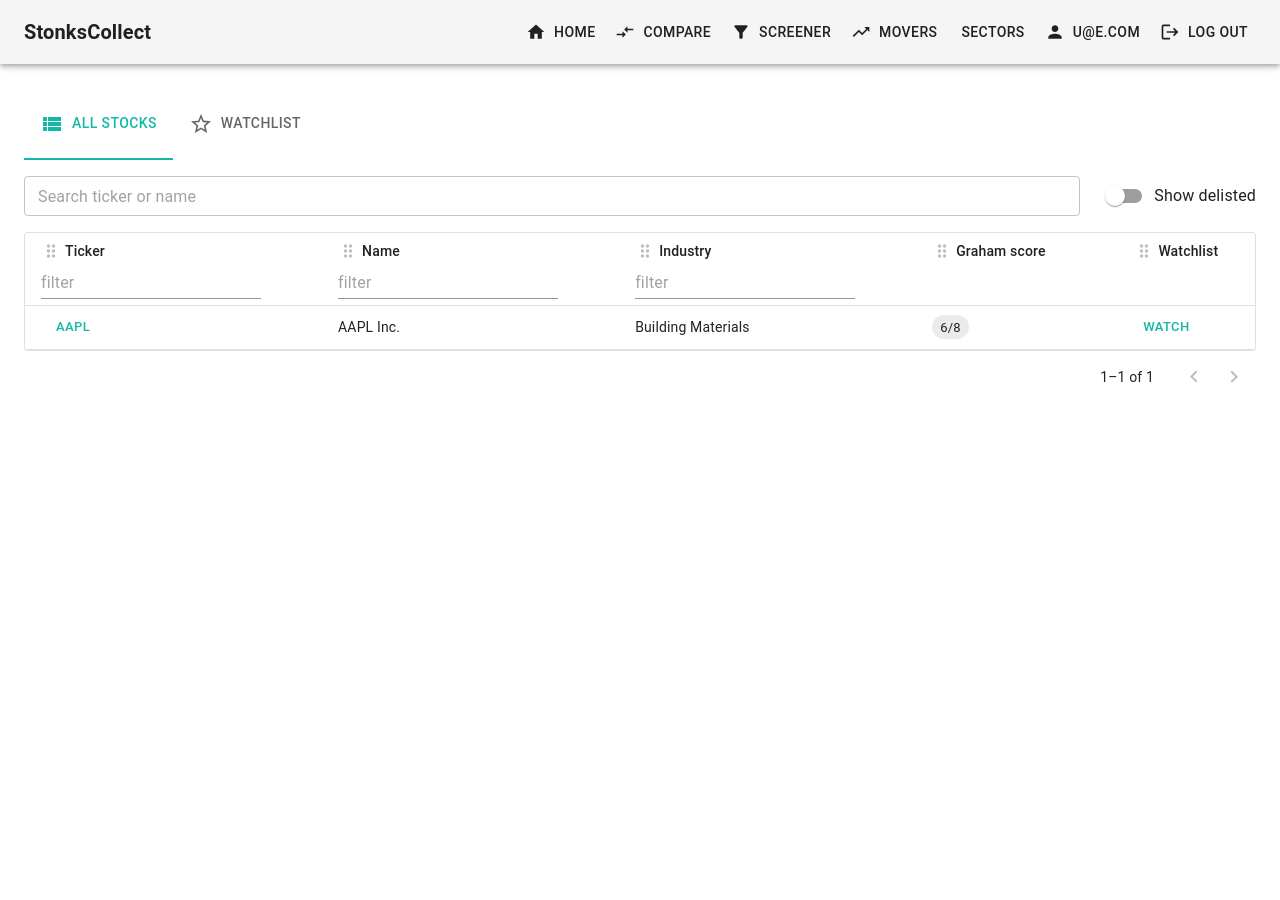
Scenario: Screener nav lists ranked passers and a row opens the company
What coordinates should you click on to do the following:
click the button "Screener"
I would click on:
 (783, 32)
Its box is [727,14,839,50].
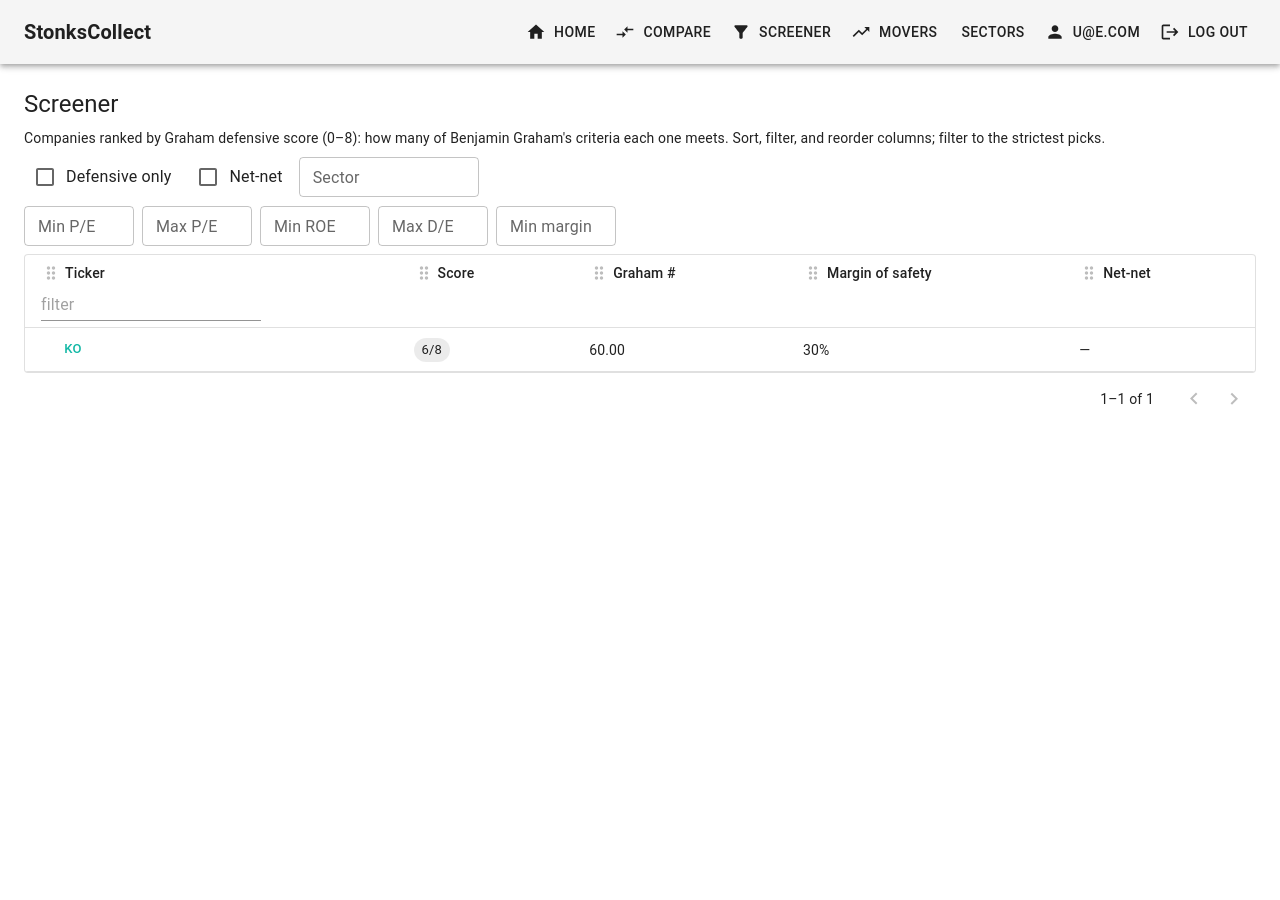
Result: the button "KO" is shown
What coordinates should you click on to do the following:
click the button "KO"
I would click on:
 (73, 350)
Its box is [41,334,105,365].
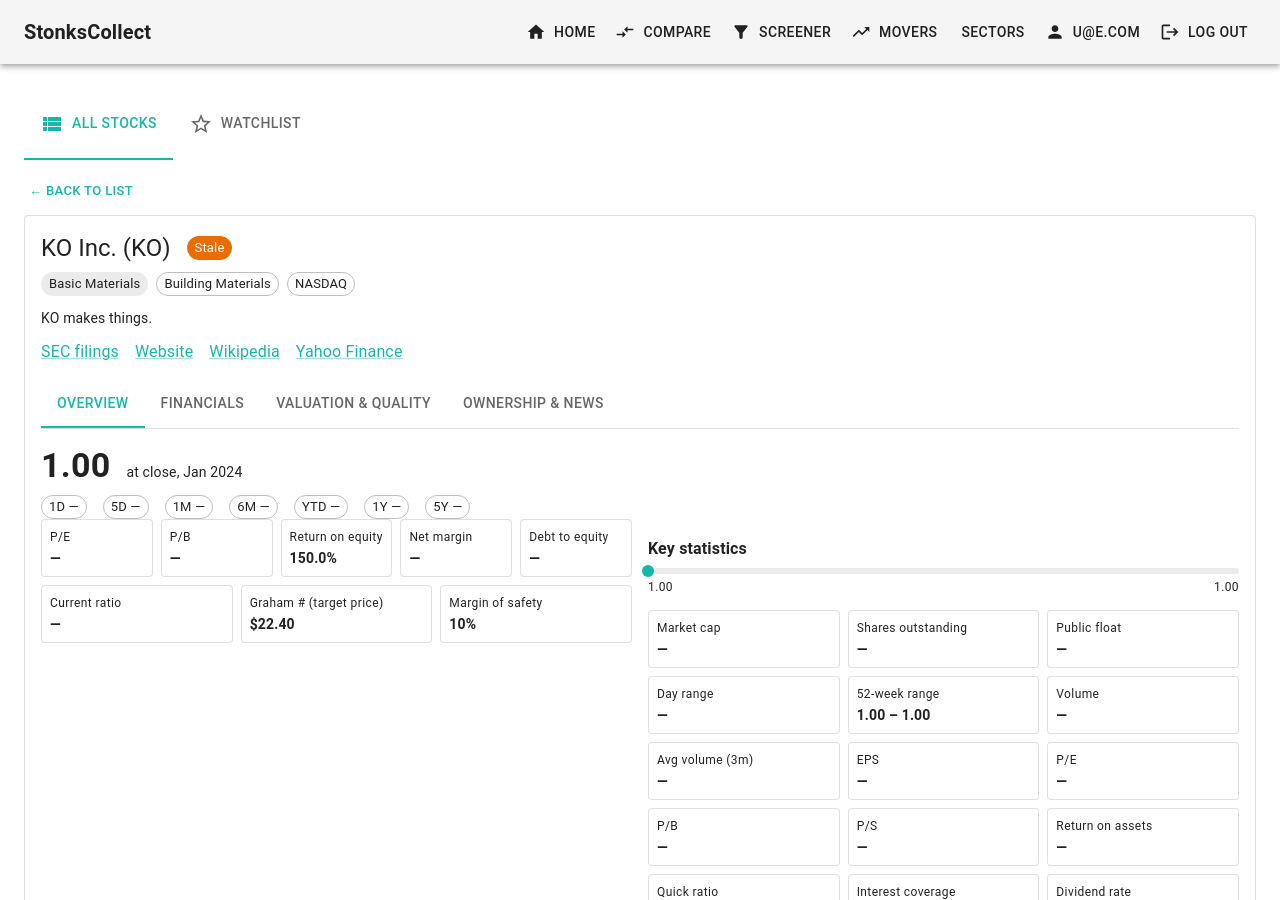
Result: the heading "KO Inc. (KO)" is shown at [41,232,171,264]
# the Graham scorecard now lives on the Valuation & quality tab
What coordinates should you click on to do the following:
click the tab "Valuation & quality"
I would click on:
 (354, 404)
Its box is [260,380,447,428].
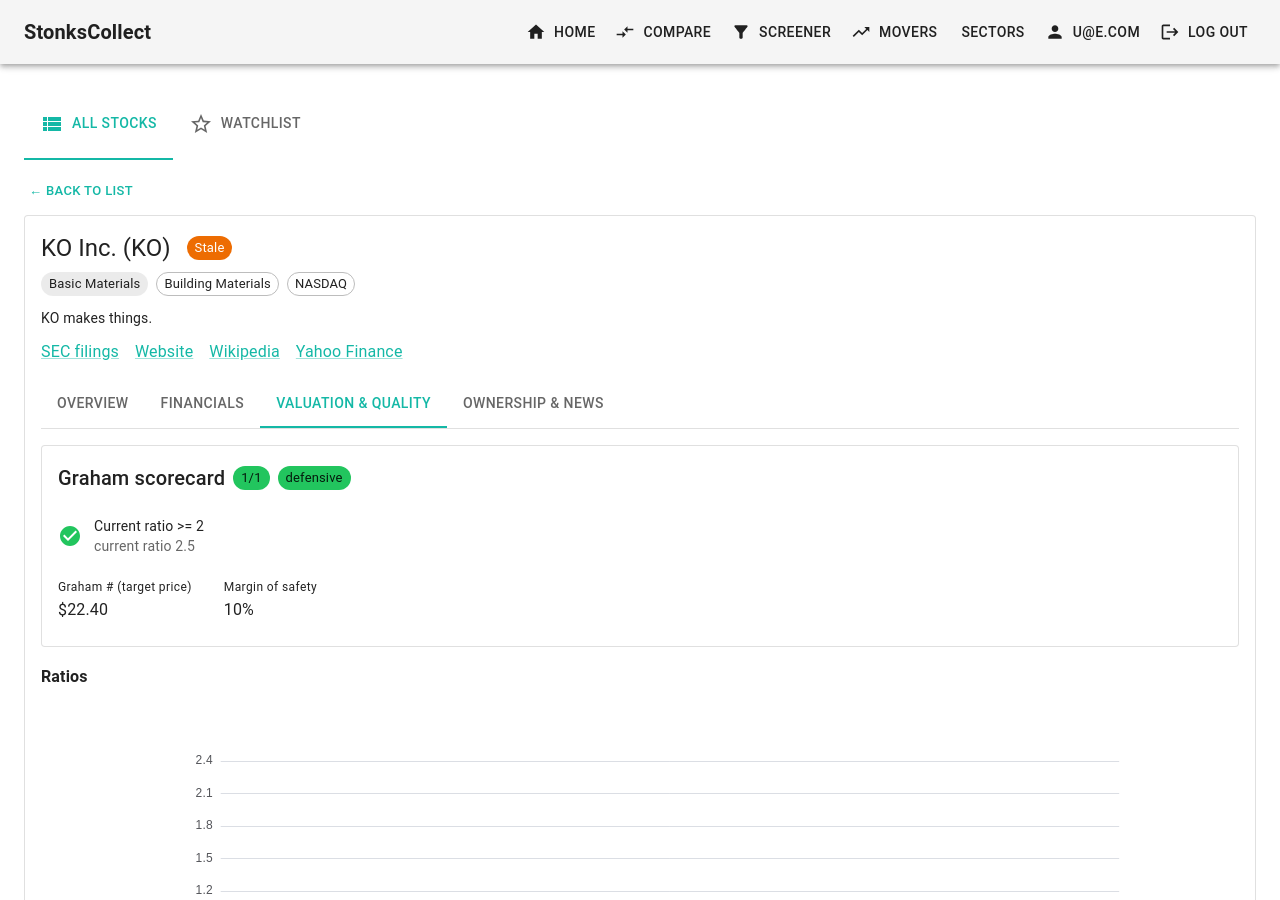
Result: the heading "Graham scorecard" is shown at [58,462,225,494]
